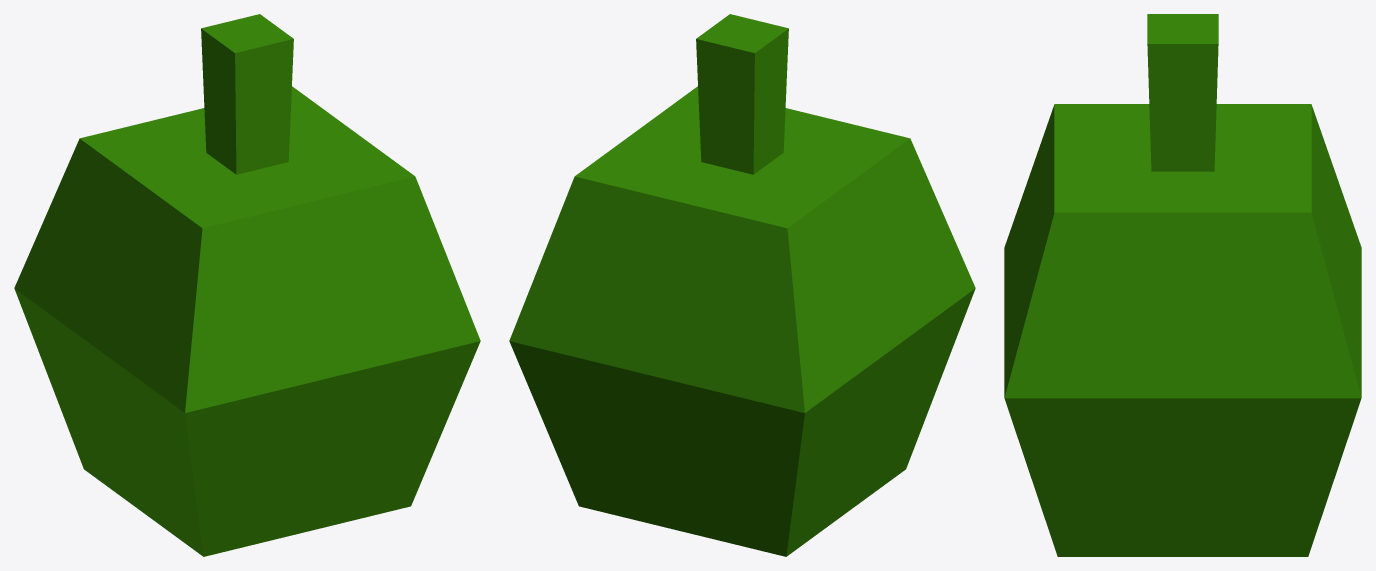
The model's file is Fruit_2.FBX.
3 views of the same model, side by side, from view 1: azimuth 30°, elevation 25°; view 2: azimuth 150°, elevation 25°; view 3: azimuth 270°, elevation 25° (orthographic). The views are drawn at different scales.
Visible parts, largest first — view 1: Box479; view 2: Box479; view 3: Box479.
Boxes of the visible parts, x1,y1,x2,y2 form: Box479: (14, 14, 480, 556); Box479: (509, 14, 975, 556); Box479: (1004, 14, 1361, 556).
Bounding box in the file's own units: 19.69 × 28.89 × 19.69.
